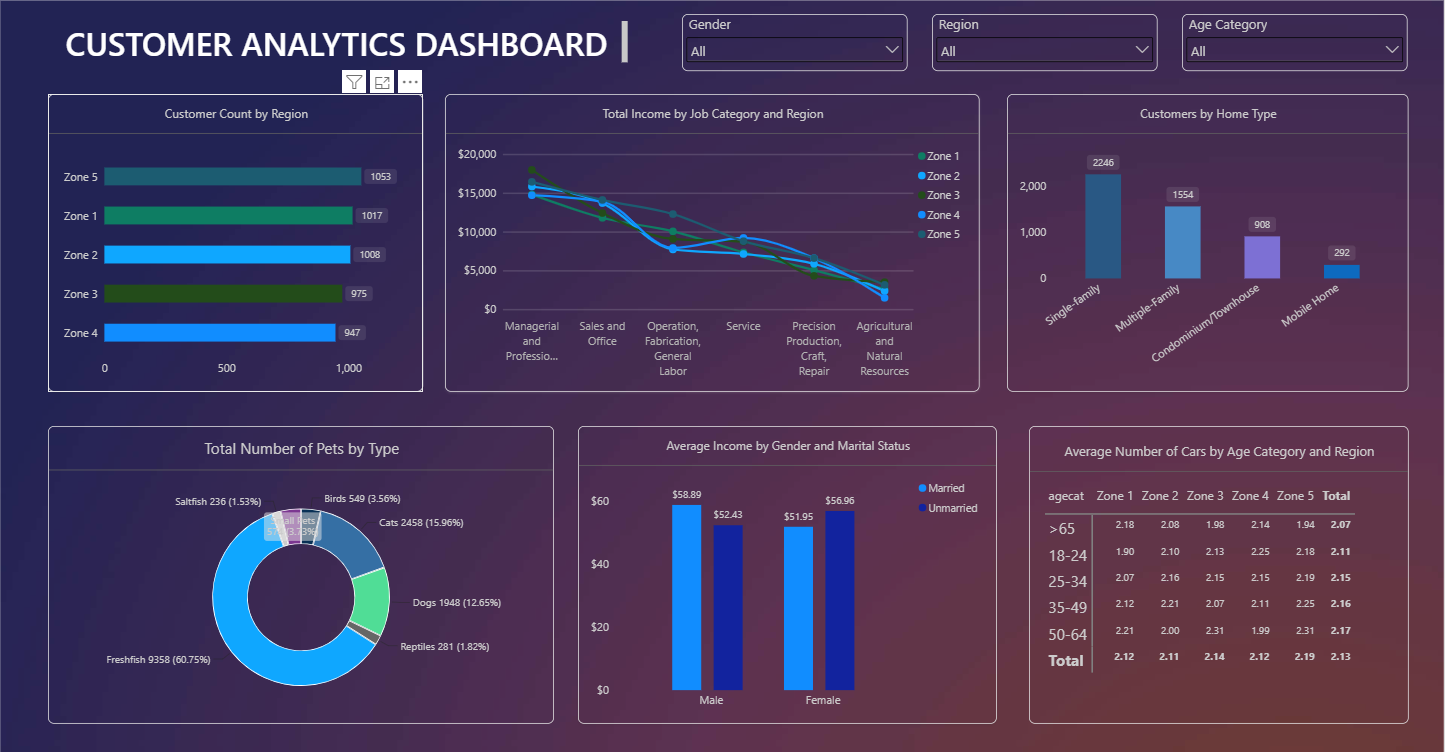

The dashboard page shown, as its layout file describes it:
{"tool":"powerbi","page":{"name":"Page 1","canvas":[1920,1080],"ordinal":0},"visuals":[{"type":"textbox","box":[63.8,63.8,771.4,55.9],"z":0},{"type":"clusteredBarChart","title":"Customer Count by Region","fields":{"Category":["customer_dbase.region"],"Y":["CountNonNull(customer_dbase.gender)"]},"box":[63.3,161.1,499.5,396.3],"z":1000},{"type":"clusteredColumnChart","title":"Average Income by Gender and Marital Status","fields":{"Category":["customer_dbase.gender"],"Series":["customer_dbase.marital"],"Y":["Avg(customer_dbase.income)"]},"box":[769.1,602.6,557.4,396.3],"z":2000},{"type":"lineChart","title":"Total Income by Job Category and Region","fields":{"Category":["customer_dbase.jobcat"],"Series":["customer_dbase.region"],"Y":["Sum(customer_dbase.income)"]},"box":[591.8,161.1,711.2,396.3],"z":3000},{"type":"donutChart","title":"Total Number of Pets by Type","fields":{"Y":["Sum(customer_dbase.pets_birds)","Sum(customer_dbase.pets_cats)","Sum(customer_dbase.pets_dogs)","Sum(customer_dbase.pets_reptiles)","Sum(customer_dbase.pets_freshfish)","Sum(customer_dbase.pets_saltfish)","Sum(customer_dbase.pets_small)"]},"box":[63.3,602.6,673.2,396.3],"z":4000},{"type":"pivotTable","title":"Average Number of Cars by Age Category and Region","fields":{"Columns":["customer_dbase.region"],"Rows":["customer_dbase.agecat"],"Values":["Avg(customer_dbase.cars)"]},"box":[1368.1,602.6,504.9,396.3],"z":6000},{"type":"clusteredColumnChart","title":"Customers by Home Type","fields":{"Category":["customer_dbase.hometype"],"Y":["CountNonNull(customer_dbase.homeown)"]},"box":[1339.1,161.1,533.8,396.3],"z":7000},{"type":"slicer","fields":{"Values":["customer_dbase.gender"]},"box":[907.1,54.5,300.4,76],"z":7003},{"type":"slicer","fields":{"Values":["customer_dbase.agecat"]},"box":[1572.1,54.5,300.4,76],"z":7004},{"type":"slicer","fields":{"Values":["customer_dbase.region"]},"box":[1239.6,54.5,300.4,76],"z":7005}]}

Visuals, with their boxes on the page's 1920x1080 design canvas (x1, y1, x2, y2). These are canvas units, not pixel positions in the 1445x752 screenshot, which may show the page scaled, cropped or inside an application window:
textbox: rect(64, 64, 835, 120)
"Customer Count by Region" clusteredBarChart: rect(63, 161, 563, 557)
"Average Income by Gender and Marital Status" clusteredColumnChart: rect(769, 603, 1326, 999)
"Total Income by Job Category and Region" lineChart: rect(592, 161, 1303, 557)
"Total Number of Pets by Type" donutChart: rect(63, 603, 736, 999)
"Average Number of Cars by Age Category and Region" pivotTable: rect(1368, 603, 1873, 999)
"Customers by Home Type" clusteredColumnChart: rect(1339, 161, 1873, 557)
slicer - customer_dbase.gender: rect(907, 54, 1208, 130)
slicer - customer_dbase.agecat: rect(1572, 54, 1872, 130)
slicer - customer_dbase.region: rect(1240, 54, 1540, 130)
